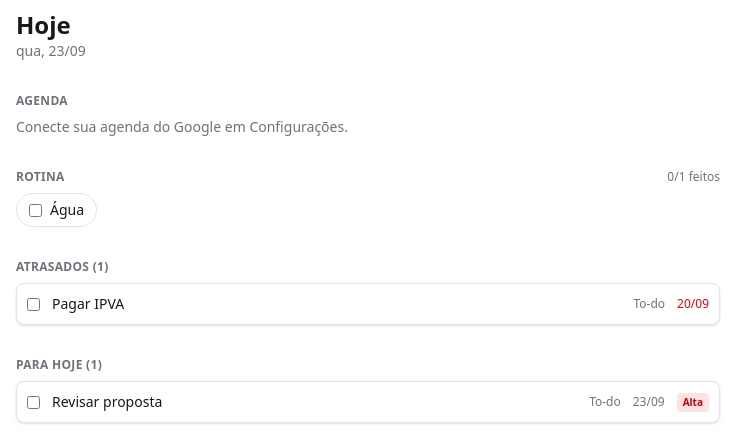
Test: TodayView › concluir move o cartão para a coluna Feito e tira da lista
The image size is (737, 441).
Click the checkbox named "Concluir Pagar IPVA": coordinates (34, 304) [27, 298, 40, 310]
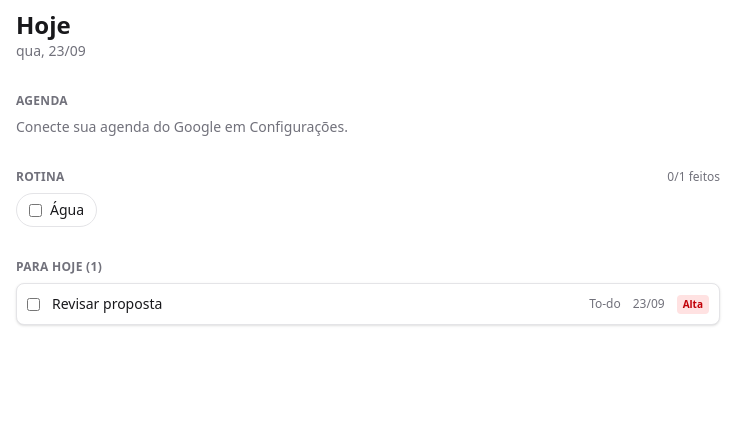
Now the button "Pagar IPVA" is gone
